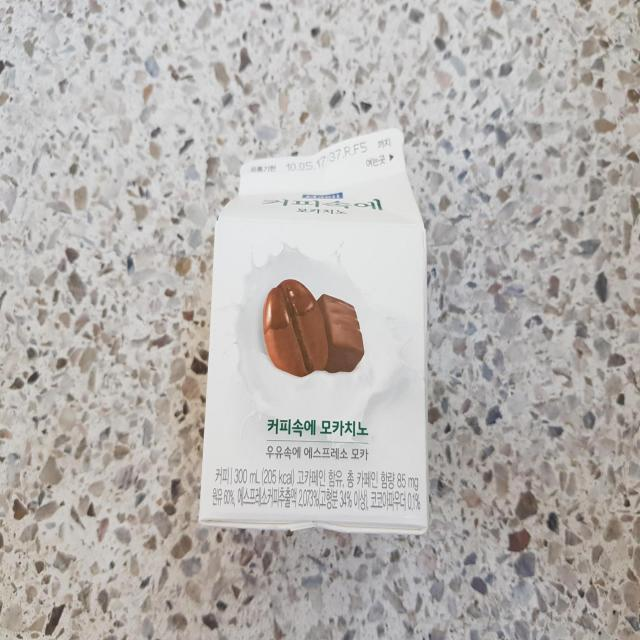paperpack: (199, 128, 429, 534)
